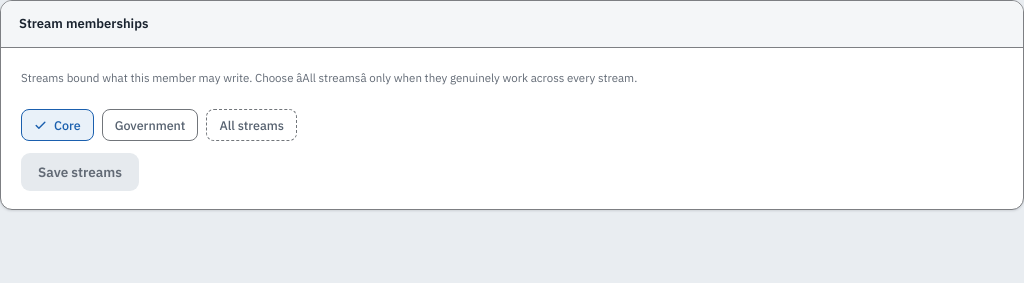
Test case: StreamAssignmentPanel (ADR-0042 step 3) › raises the warning when the administrator clears the last stream
Step 1. Click the button "Core" → (57, 125), box [21, 109, 94, 141]
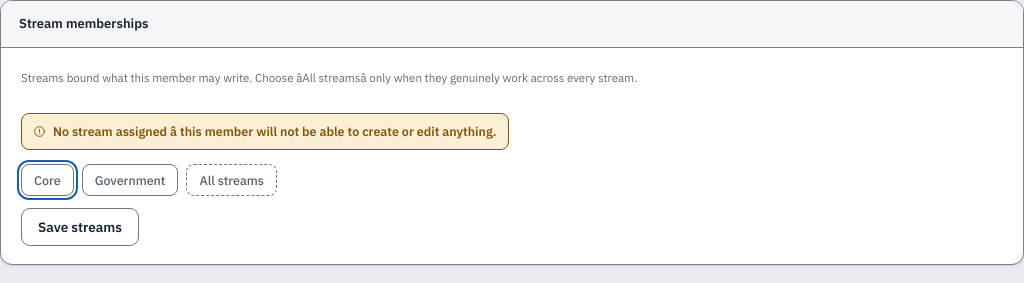
Result: the message shows "No stream assigned" at [53, 123, 496, 139]
